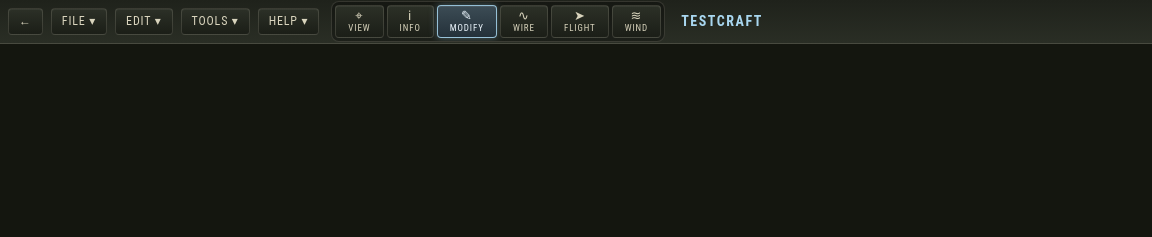
Test: TopBar — Edit ▾ carries the history + TODO state › the vessel-information TODO rows stay listed and DISABLED
Click the button with test id "edit-menu".
click(144, 22)  # box [115,8,173,35]
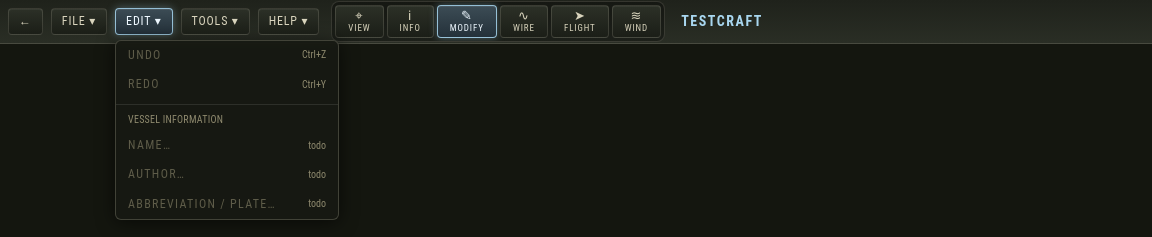
Check: the button with test id "edit-vessel-name" is disabled, box [116,131,338,160]
Check: the button with test id "edit-vessel-author" is disabled, box [116,160,338,190]
Check: the button with test id "edit-vessel-code" is disabled, box [116,190,338,219]
